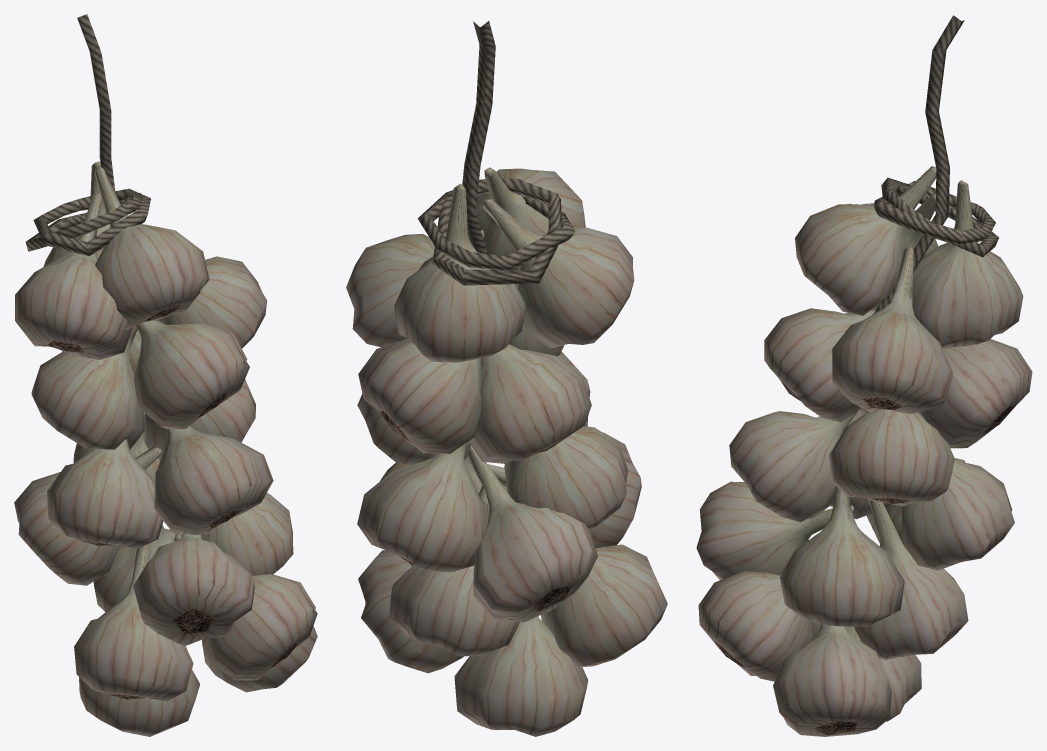
The model's file is Garlic_Bunch.glb.
3 renders of one model, left to right at view 1: azimuth 30°, elevation 25°; view 2: azimuth 150°, elevation 25°; view 3: azimuth 270°, elevation 25°, orthographic. The views are drawn at different scales.
Visible parts, largest first — view 1: SM_Garlic_Bunch; view 2: SM_Garlic_Bunch; view 3: SM_Garlic_Bunch.
Boxes of the visible parts, x1,y1,x2,y2 form: SM_Garlic_Bunch: (14, 14, 317, 736); SM_Garlic_Bunch: (346, 21, 667, 736); SM_Garlic_Bunch: (696, 15, 1032, 736).
Bounding box in the file's own units: 0.1989 × 0.4889 × 0.2144.
Materials: 1 (1 with a texture image).
